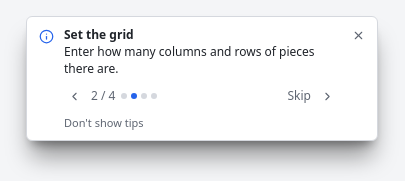
Test: first PDF tour › lets Back return to an earlier step
Click the button named "Previous tip": (74, 96) [64,86,85,107]
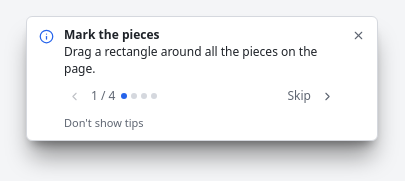
Expected: the text "1 / 4" is shown, [91,88,116,104]
